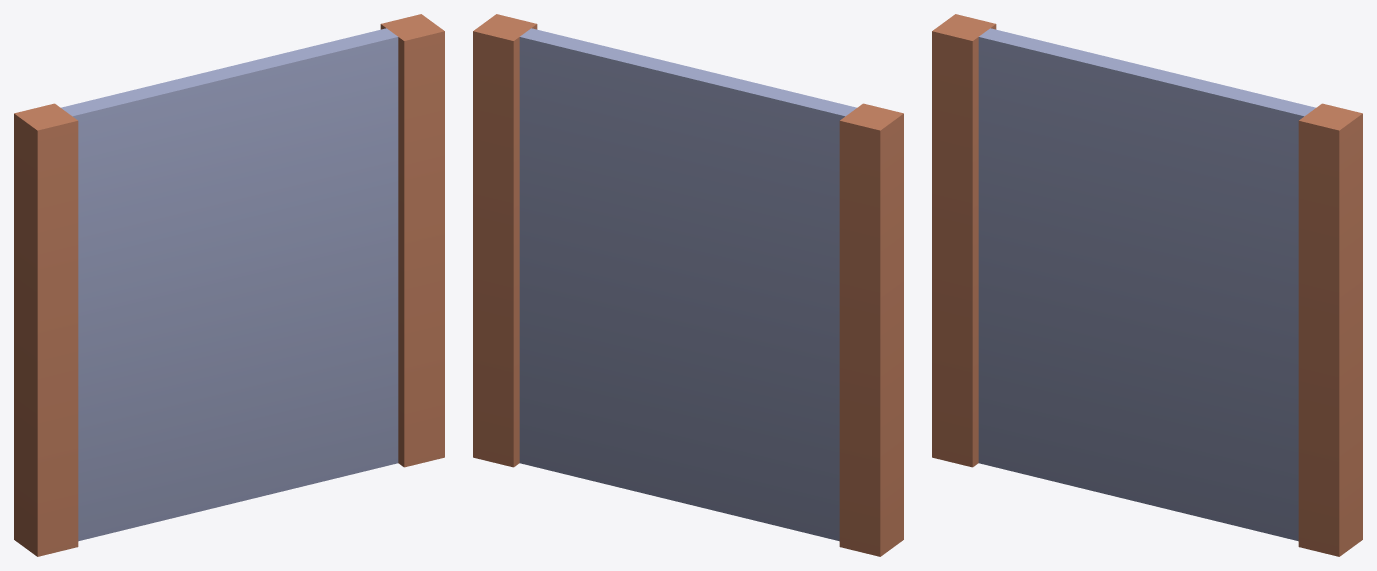
File: hall-wall.glb
3 renders of one model, left to right at view 1: azimuth 30°, elevation 25°; view 2: azimuth 150°, elevation 25°; view 3: azimuth 330°, elevation 25°, orthographic.
Visible parts, largest first — view 1: wall; view 2: wall; view 3: wall.
Part boxes in pixels (x1,y1,x2,y2): wall: (14,14,444,556); wall: (473,14,903,556); wall: (932,14,1362,556).
Size of the model in its own units: 1 by 1 by 0.1.
1 material, 1 textured.
